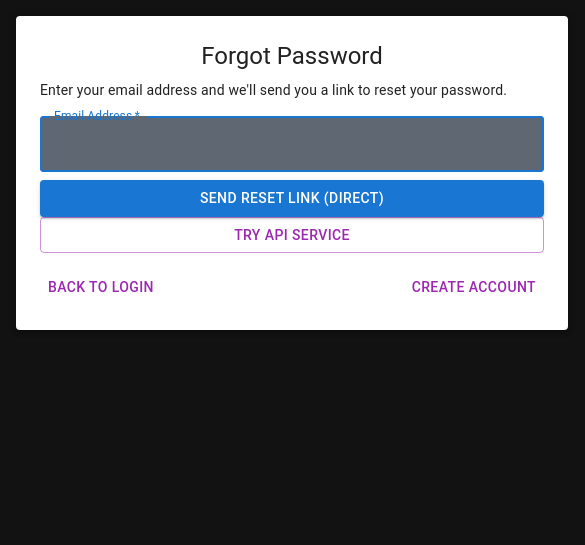
ForgotPassword Page › handles error in direct password reset request
Note: Enter email
Type "nonexistent@example.com" into the field labelled "Email Address *" at x=292, y=144, box [40,116,544,172]
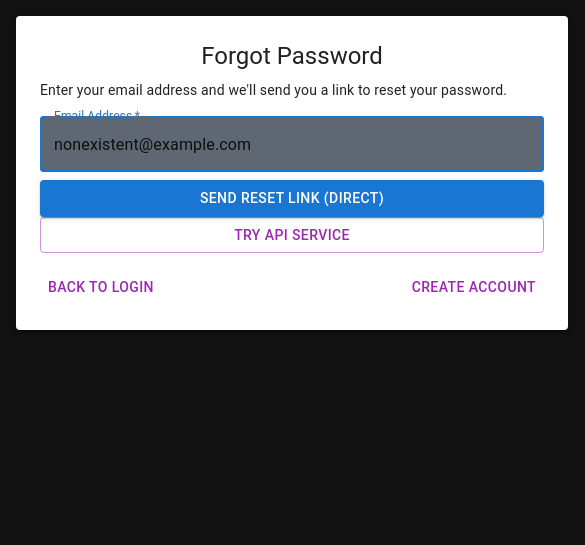
Note: Submit the form
Click the button "Send Reset Link (Direct)" at x=292, y=198, box [40,180,544,216]
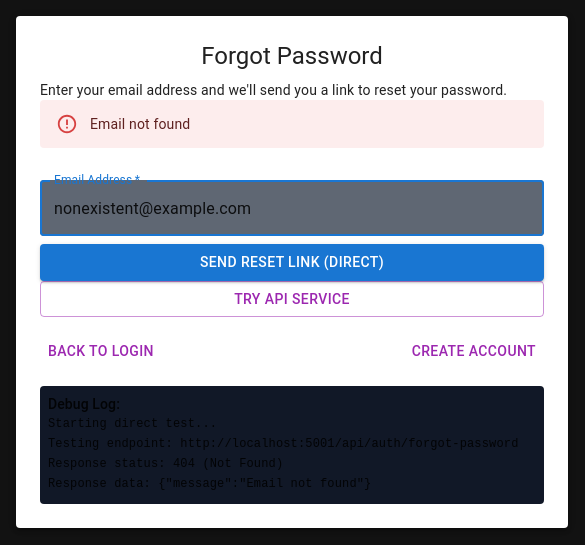
Check: the text "Email not found" is shown, box [90,116,190,132]
